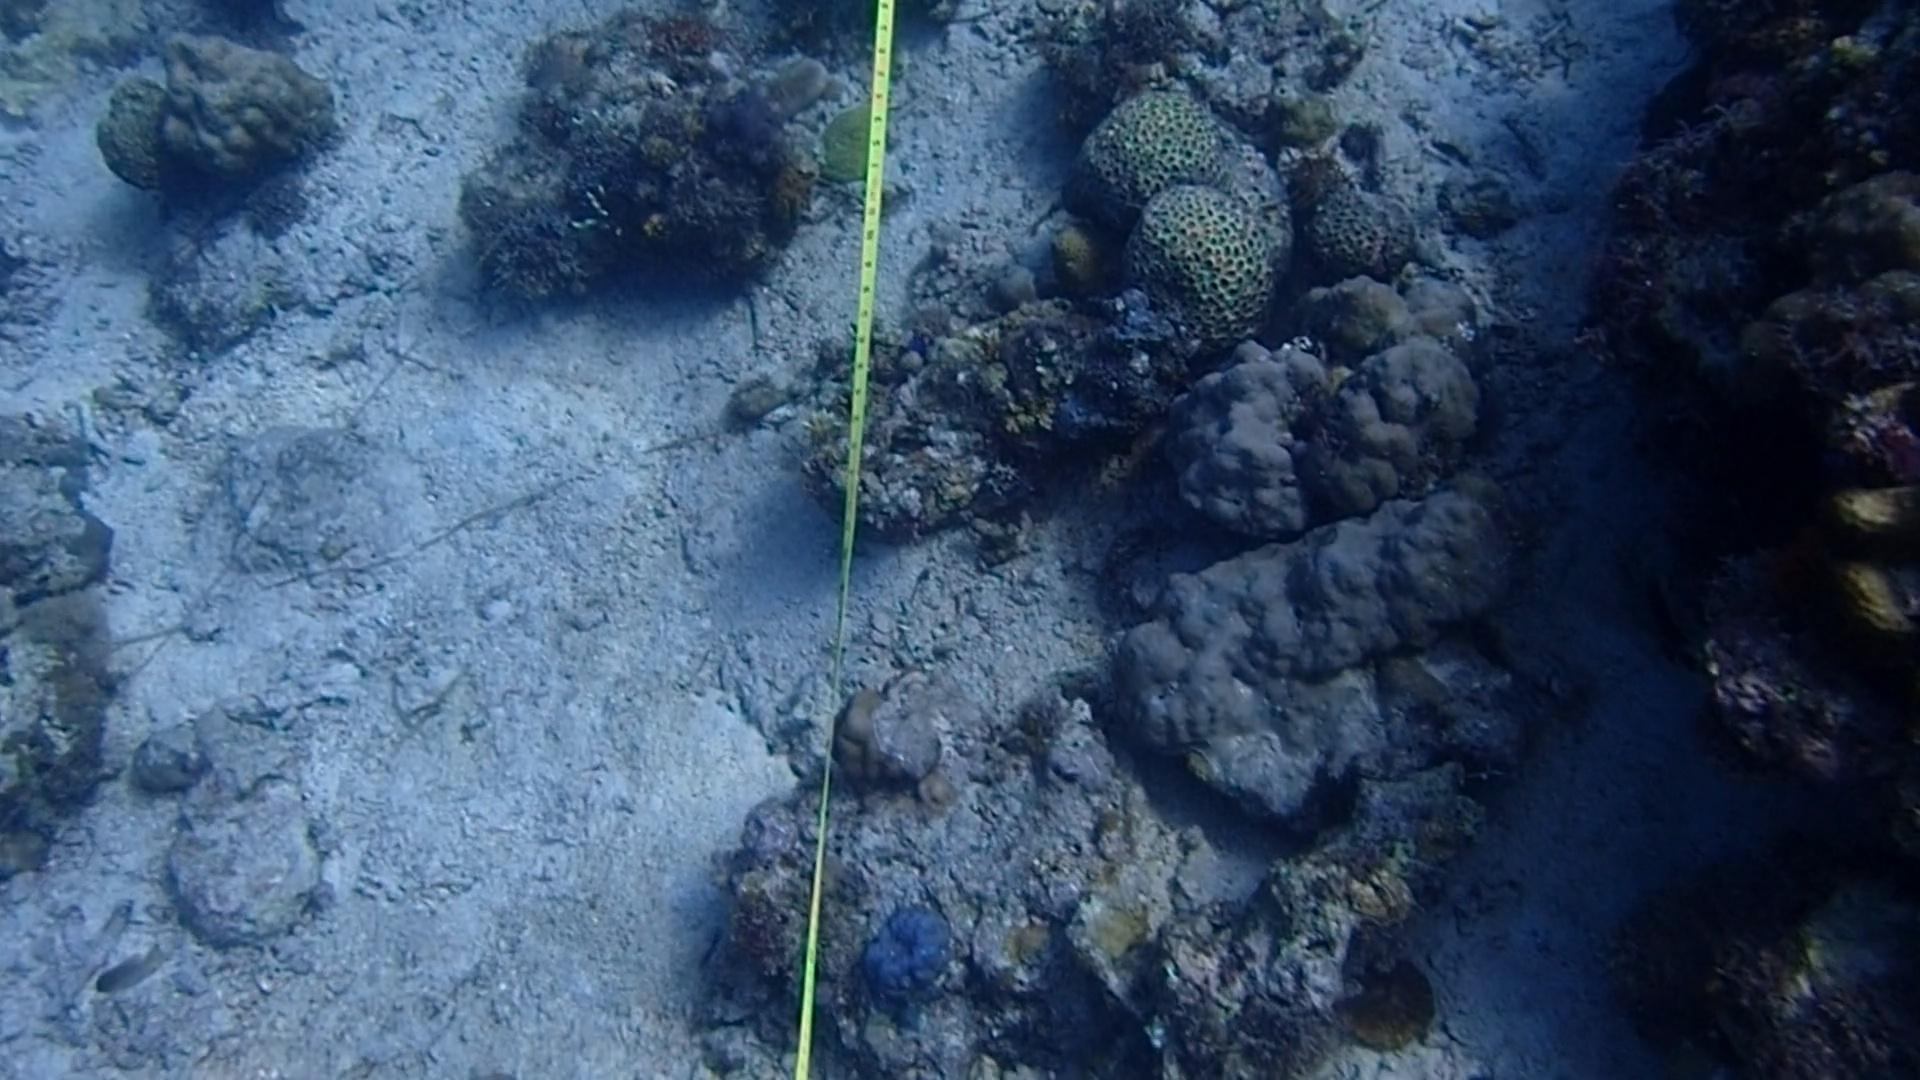Light Fish: (90, 928, 193, 1001)
